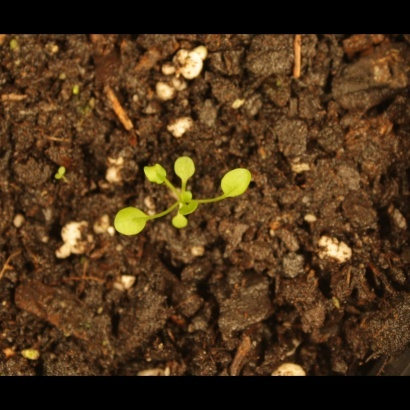leaf: (111, 201, 152, 239), (220, 164, 256, 201), (172, 153, 203, 185), (140, 160, 171, 185), (168, 213, 192, 237), (175, 185, 198, 209), (51, 163, 74, 186), (179, 201, 202, 224)
